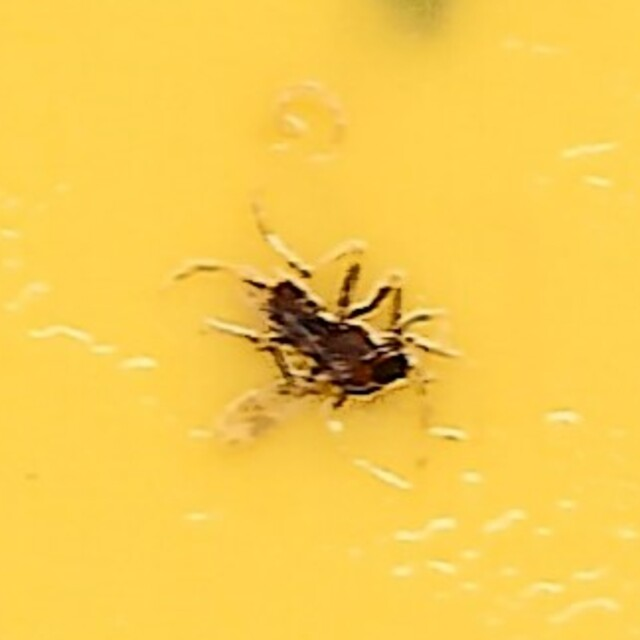Nematocera: (198, 204, 442, 436)
